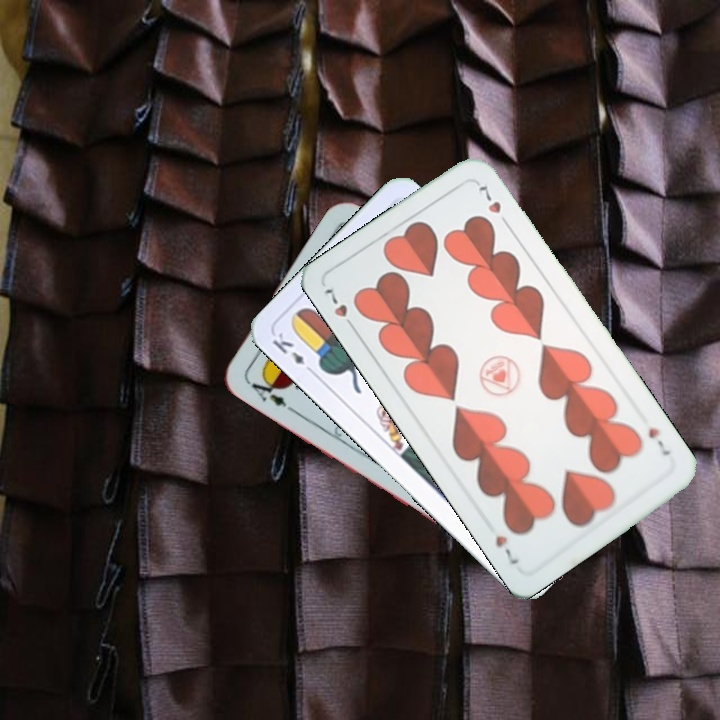EA: (243, 371, 296, 414)
EK: (268, 328, 318, 377)
H7: (320, 284, 359, 334), (644, 423, 673, 459)
